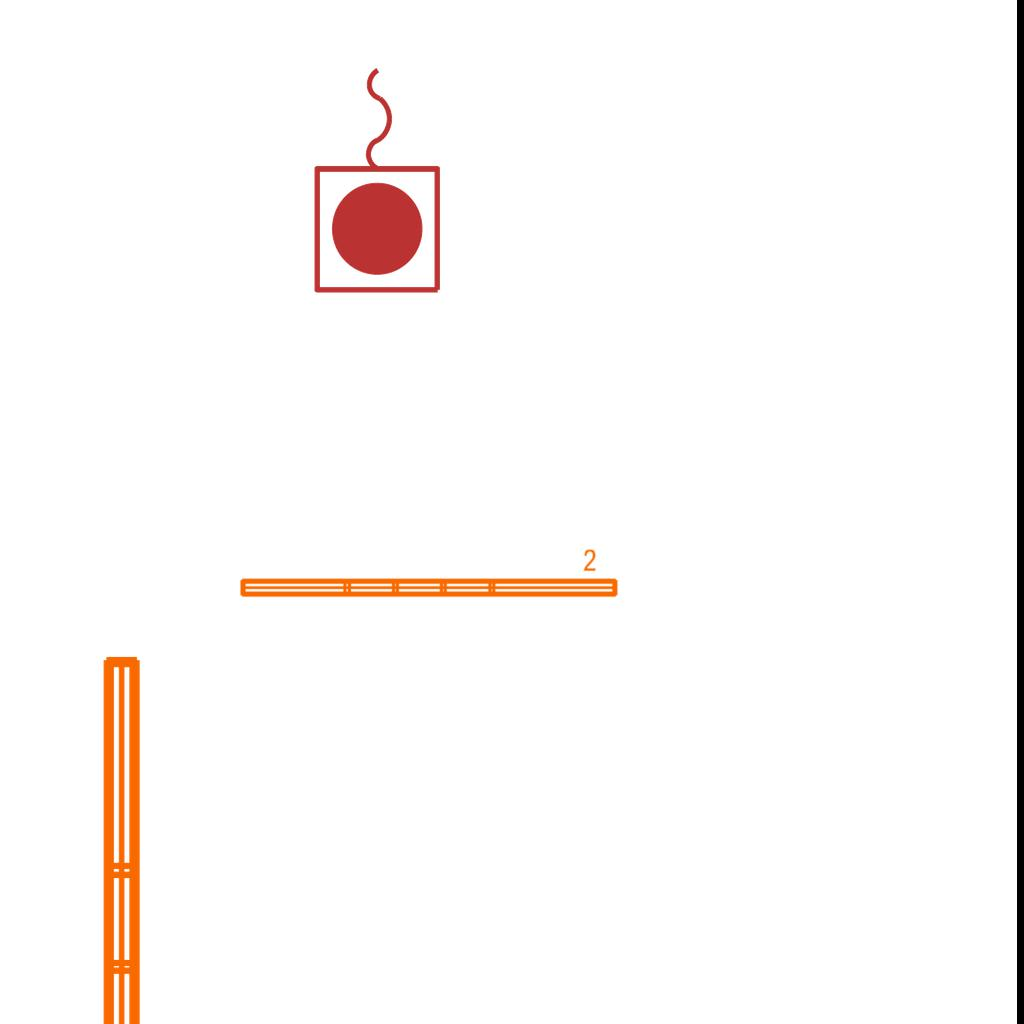Ambulanz_Pendelleuchte_LED: (91, 646, 203, 1024), (235, 547, 622, 603)
Zugtaster: (307, 57, 451, 301)
